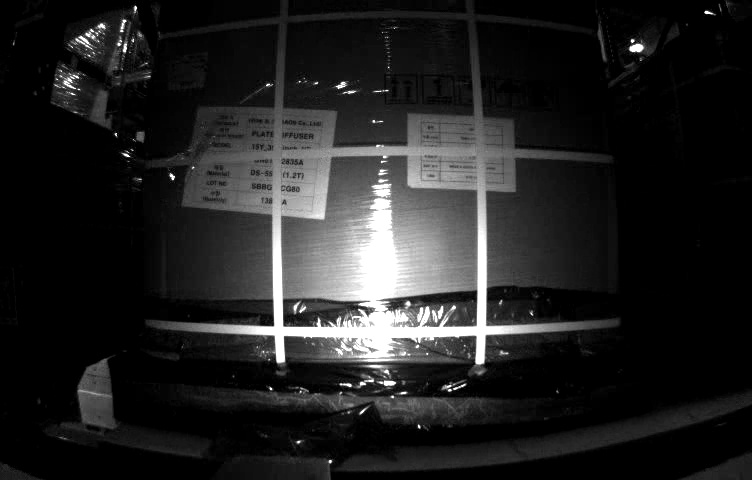True Barcode: (171, 55, 213, 88)
